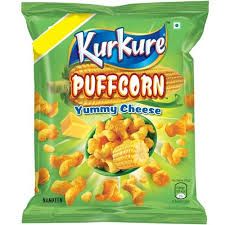kurkure: (67, 28, 169, 66)
plastic: (35, 8, 192, 213)
wrapper: (17, 1, 213, 225)
